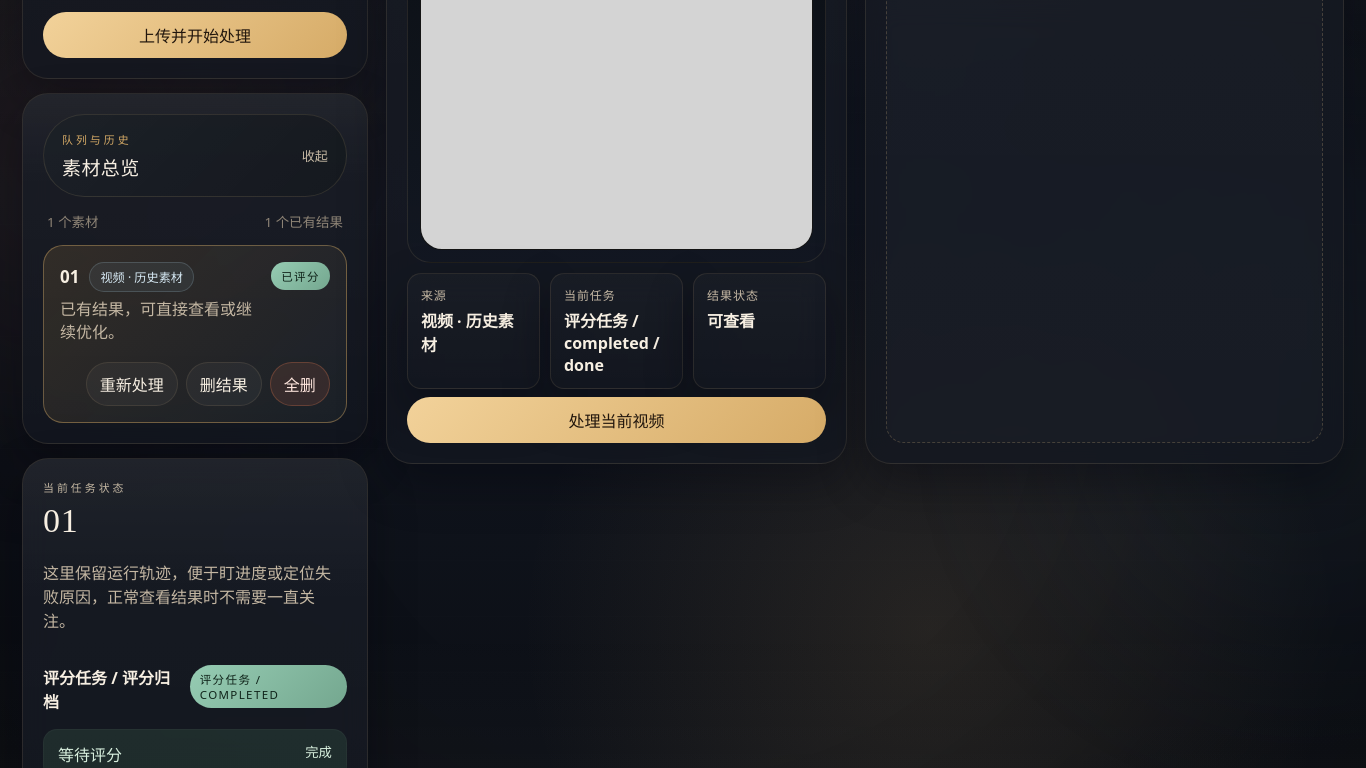
Test: App › deletes the original video after confirmation and clears the right side
The image size is (1366, 768).
(page scrolled)
Click the button "全删": (300, 384) [270, 362, 330, 406]
(page scrolled)
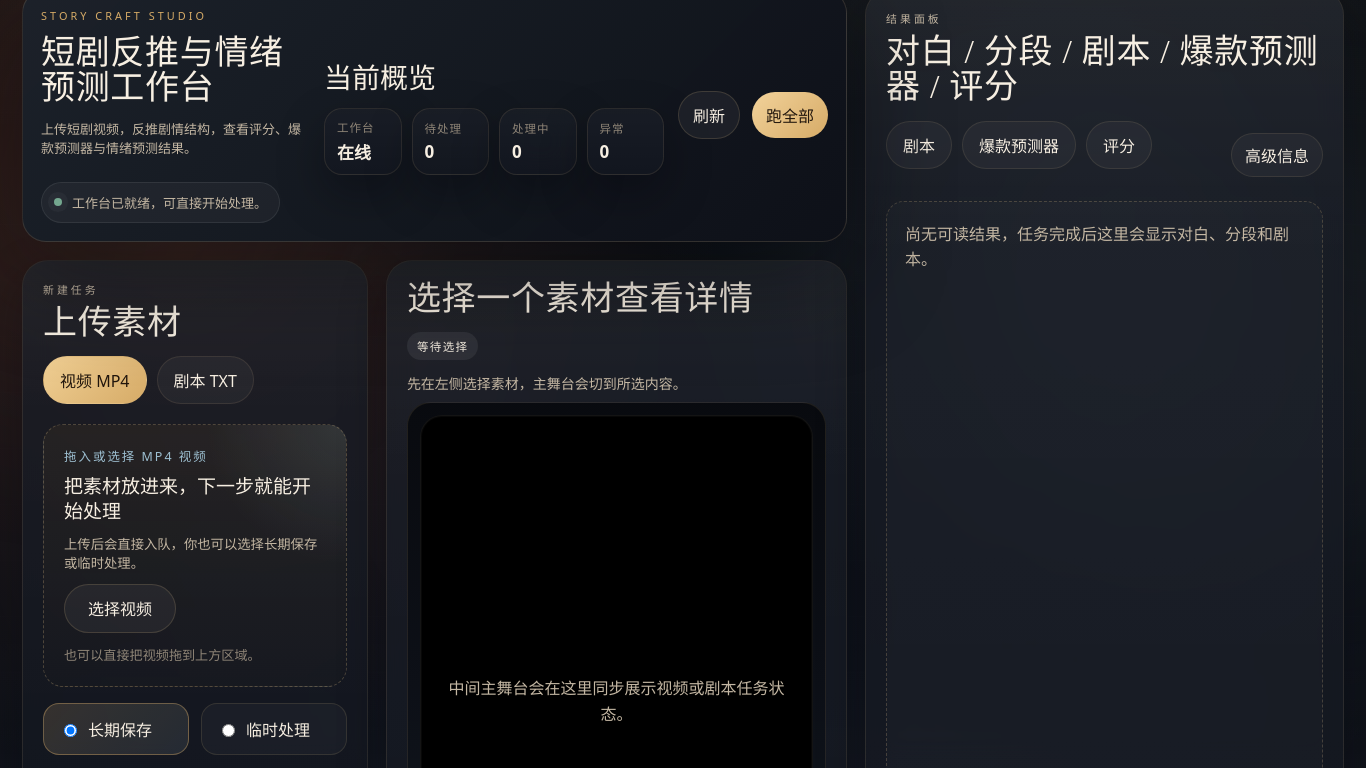
Check: the heading "选择一个素材查看详情" is shown, box [407, 281, 754, 316]
Check: the text "先在左侧选择素材，主舞台会切到所选内容。" is shown, box [407, 374, 687, 393]
Check: the button "删结果" is gone
